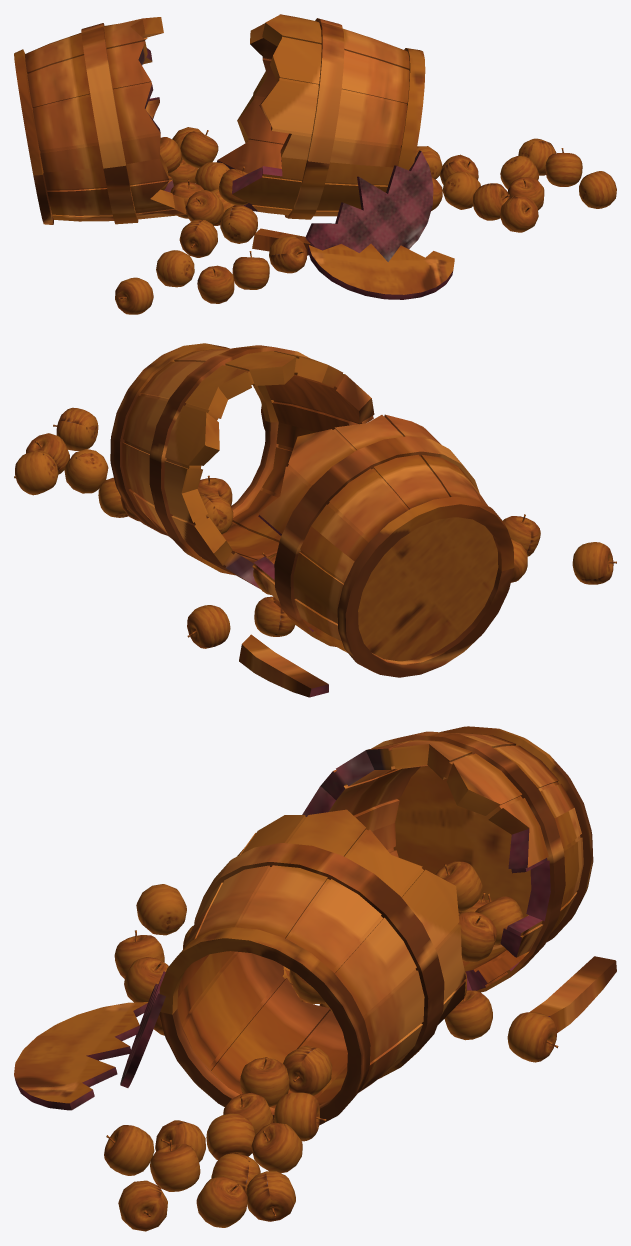
The model's file is barrel of broken fruit_2.fbx.
3 renders of one model, top to bottom at view 1: azimuth 30°, elevation 25°; view 2: azimuth 150°, elevation 25°; view 3: azimuth 270°, elevation 25°, orthographic. The views are drawn at different scales.
Visible parts, largest first — view 1: Circle.023, Circle.024, Plane.1566, Plane.1569, Plane.1560, Plane.1591, Plane.1563, Plane.1558, Plane.1564, Plane.1576, Plane.1565, Plane.1588 (+14 smaller); view 2: Circle.023, Plane.1574, Plane.1568, Plane.1559, Plane.1566, Plane.1564, Plane.1579, Plane.1569, Plane.1565, Plane.1593, Plane.1587, Plane.1599 (+1 smaller); view 3: Circle.023, Circle.024, Plane.1566, Plane.1565, Plane.1568, Plane.1587, Plane.1559, Plane.1576, Plane.1564, Plane.1570, Plane.1593, Plane.1585 (+11 smaller).
Part boxes in pixels (left/top/right/bottom): Circle.023: left=14, top=14, right=425, bottom=255; Circle.024: left=305, top=150, right=454, bottom=299; Plane.1566: left=115, top=277, right=153, bottom=314; Plane.1569: left=197, top=265, right=234, bottom=303; Plane.1560: left=220, top=205, right=257, bottom=243; Plane.1591: left=156, top=250, right=194, bottom=287; Plane.1563: left=269, top=236, right=306, bottom=273; Plane.1558: left=179, top=219, right=217, bottom=257; Plane.1564: left=579, top=171, right=616, bottom=208; Plane.1576: left=500, top=195, right=538, bottom=232; Plane.1565: left=545, top=148, right=582, bottom=186; Plane.1588: left=232, top=251, right=269, bottom=289; Circle.023: left=110, top=343, right=514, bottom=697; Plane.1574: left=64, top=449, right=108, bottom=493; Plane.1568: left=14, top=451, right=58, bottom=495; Plane.1559: left=187, top=605, right=230, bottom=648; Plane.1566: left=572, top=542, right=616, bottom=584; Plane.1564: left=53, top=407, right=98, bottom=450; Plane.1579: left=254, top=596, right=295, bottom=636; Plane.1569: left=503, top=514, right=540, bottom=556; Plane.1565: left=26, top=433, right=69, bottom=474; Plane.1593: left=200, top=493, right=233, bottom=534; Plane.1587: left=98, top=477, right=127, bottom=517; Plane.1599: left=197, top=475, right=232, bottom=506; Circle.023: left=159, top=726, right=616, bottom=1125; Circle.024: left=14, top=971, right=165, bottom=1110; Plane.1566: left=136, top=884, right=186, bottom=935; Plane.1565: left=196, top=1176, right=247, bottom=1227; Plane.1568: left=246, top=1171, right=295, bottom=1221; Plane.1587: left=251, top=1122, right=302, bottom=1173; Plane.1559: left=507, top=1012, right=558, bottom=1062; Plane.1576: left=104, top=1125, right=154, bottom=1175; Plane.1564: left=118, top=1180, right=167, bottom=1231; Plane.1570: left=150, top=1139, right=200, bottom=1191; Plane.1593: left=283, top=1045, right=332, bottom=1095; Plane.1585: left=206, top=1113, right=255, bottom=1159.
Size of the model in its own units: 99.62 by 37.01 by 79.57.
